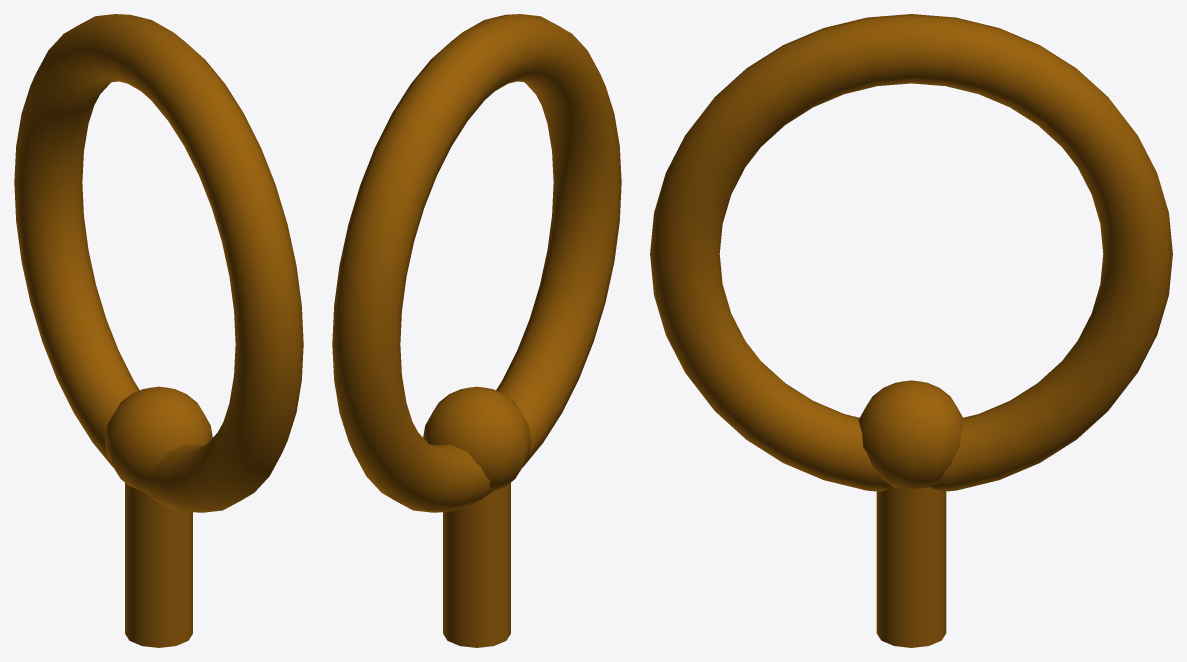
Rendered from pasha.glb.
3 views of the same model, side by side, from view 1: azimuth 30°, elevation 25°; view 2: azimuth 150°, elevation 25°; view 3: azimuth 270°, elevation 25° (orthographic). The views are drawn at different scales.
Visible parts, largest first — view 1: rope; view 2: rope; view 3: rope.
Part boxes in pixels (x1,y1,x2,y2): rope: (14,14,303,647); rope: (332,14,621,647); rope: (650,14,1172,647).
Size of the model in its own units: 0.064 by 0.39 by 0.3.
